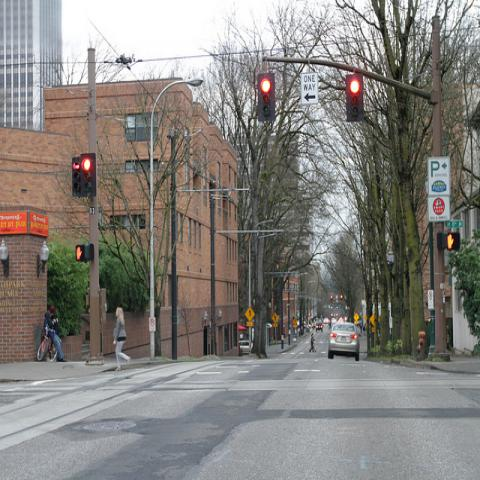car: (328, 323, 360, 361), (239, 340, 253, 354), (315, 322, 324, 333), (323, 318, 330, 323), (332, 318, 336, 323)
